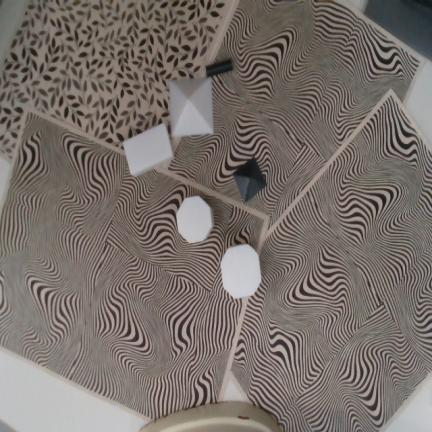Cilindro: (205, 59, 233, 77)
Paralelepipedo: (122, 122, 174, 178)
Piramide: (169, 77, 214, 137), (233, 158, 267, 203)
Prisma_hexagonal: (220, 244, 262, 299), (176, 196, 214, 243)
